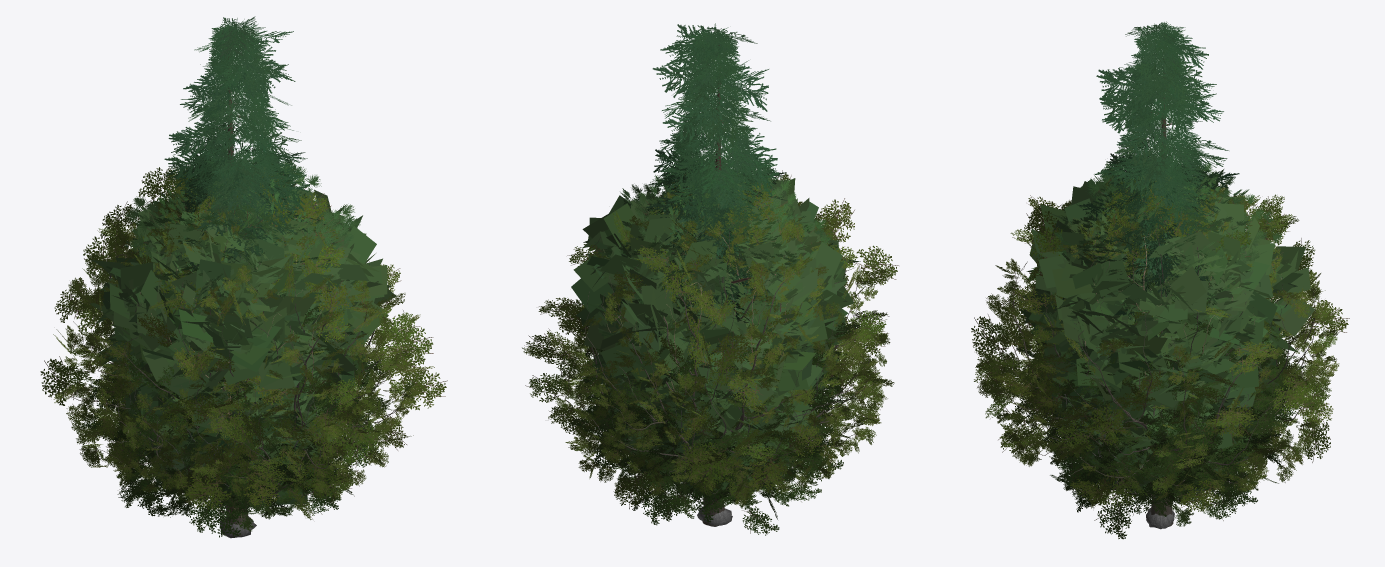
File: forest.glb
3 renders of one model, left to right at view 1: azimuth 30°, elevation 25°; view 2: azimuth 150°, elevation 25°; view 3: azimuth 270°, elevation 25°, orthographic. The views are drawn at different scales.
Parts seen in each view (by area): view 1: kusu_far_leaves, keyaki_s9_far_leaves, kusu_near_leaves, sugi_far_leaves, keyaki_s9_near_leaves, sugi_near_leaves, matsu_far_leaves, sakura_far_leaves, enoki_far_leaves, enoki_near_leaves, keyaki_s8_far_leaves, matsu_near_leaves (+7 smaller); view 2: kusu_near_leaves, keyaki_s9_far_leaves, kusu_far_leaves, sugi_far_leaves, sugi_near_leaves, keyaki_s9_near_leaves, keyaki_s8_far_leaves, enoki_far_leaves, matsu_far_leaves, sakura_far_leaves, enoki_near_leaves, shii_far_leaves (+7 smaller); view 3: keyaki_s9_far_leaves, kusu_far_leaves, kusu_near_leaves, sugi_far_leaves, keyaki_s9_near_leaves, sugi_near_leaves, enoki_far_leaves, keyaki_s8_far_leaves, enoki_near_leaves, matsu_far_leaves, shii_far_leaves, sakura_far_leaves (+7 smaller).
Part boxes in pixels (<box>): kusu_far_leaves: <box>40,157,447,519</box>; keyaki_s9_far_leaves: <box>89,182,396,482</box>; kusu_near_leaves: <box>64,176,427,506</box>; sugi_far_leaves: <box>164,16,320,414</box>; keyaki_s9_near_leaves: <box>100,199,374,471</box>; sugi_near_leaves: <box>182,17,289,391</box>; matsu_far_leaves: <box>126,155,360,323</box>; sakura_far_leaves: <box>111,393,379,537</box>; enoki_far_leaves: <box>81,338,393,505</box>; enoki_near_leaves: <box>108,330,379,516</box>; keyaki_s8_far_leaves: <box>107,281,369,512</box>; matsu_near_leaves: <box>124,175,342,315</box>; kusu_near_leaves: <box>555,190,894,507</box>; keyaki_s9_far_leaves: <box>571,178,860,463</box>; kusu_far_leaves: <box>522,170,898,509</box>; sugi_far_leaves: <box>638,23,796,382</box>; sugi_near_leaves: <box>664,27,763,326</box>; keyaki_s9_near_leaves: <box>584,203,847,443</box>; keyaki_s8_far_leaves: <box>593,269,837,498</box>; enoki_far_leaves: <box>569,322,860,509</box>; matsu_far_leaves: <box>603,156,838,328</box>; sakura_far_leaves: <box>577,386,843,535</box>; enoki_near_leaves: <box>580,319,834,505</box>; shii_far_leaves: <box>577,257,847,498</box>; keyaki_s9_far_leaves: <box>1016,171,1314,460</box>; kusu_far_leaves: <box>971,179,1349,511</box>; kusu_near_leaves: <box>975,179,1339,500</box>; sugi_far_leaves: <box>1071,22,1239,366</box>; keyaki_s9_near_leaves: <box>1032,202,1296,435</box>; sugi_near_leaves: <box>1108,21,1212,357</box>; enoki_far_leaves: <box>1014,297,1305,506</box>; keyaki_s8_far_leaves: <box>1028,256,1273,492</box>; enoki_near_leaves: <box>1022,328,1295,517</box>; matsu_far_leaves: <box>1051,156,1281,325</box>; shii_far_leaves: <box>1069,259,1296,502</box>; sakura_far_leaves: <box>1041,392,1301,539</box>.
Size of the model in its own units: 23.21 by 31.32 by 23.58.
5 materials, 4 textured.
